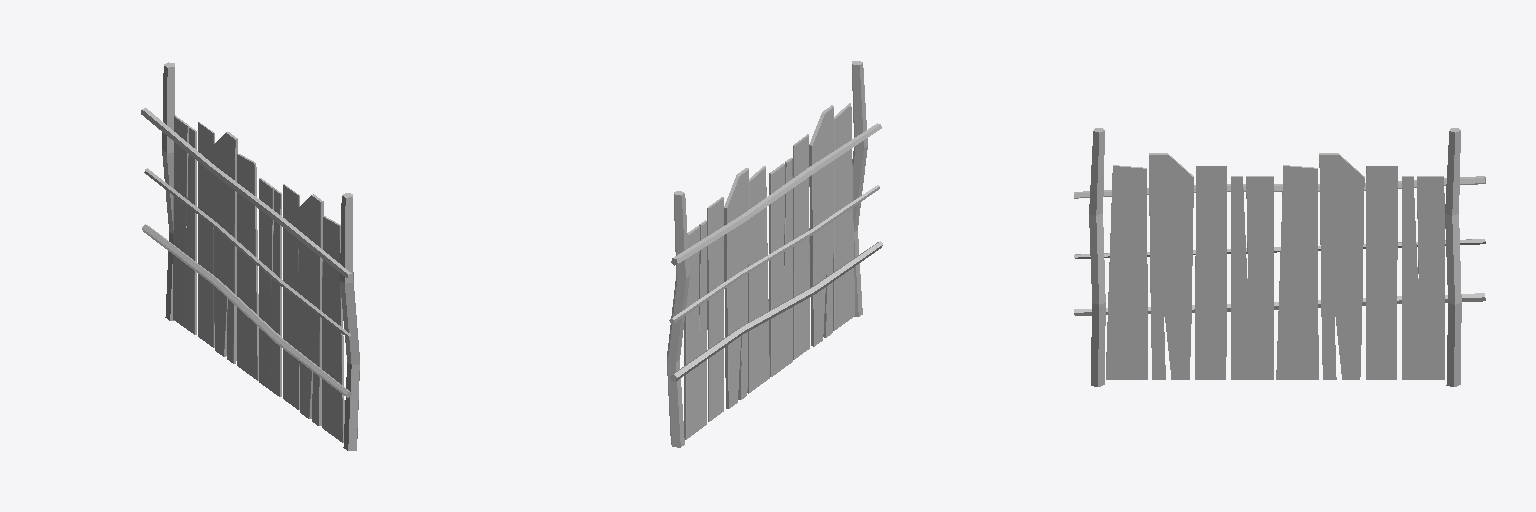
File: Palissade01.obj
The picture shows the model from 3 angles: view 1: azimuth 30°, elevation 25°; view 2: azimuth 150°, elevation 25°; view 3: azimuth 270°, elevation 25°; orthographic projection.
Visible parts, largest first — view 1: Palissade01; view 2: Palissade01; view 3: Palissade01.
Part boxes in pixels (left/top/right/bottom): Palissade01: left=141, top=62, right=359, bottom=450; Palissade01: left=667, top=61, right=882, bottom=447; Palissade01: left=1074, top=128, right=1485, bottom=386.
Bounding box in the file's own units: 0.5276 × 4.63 × 6.82.